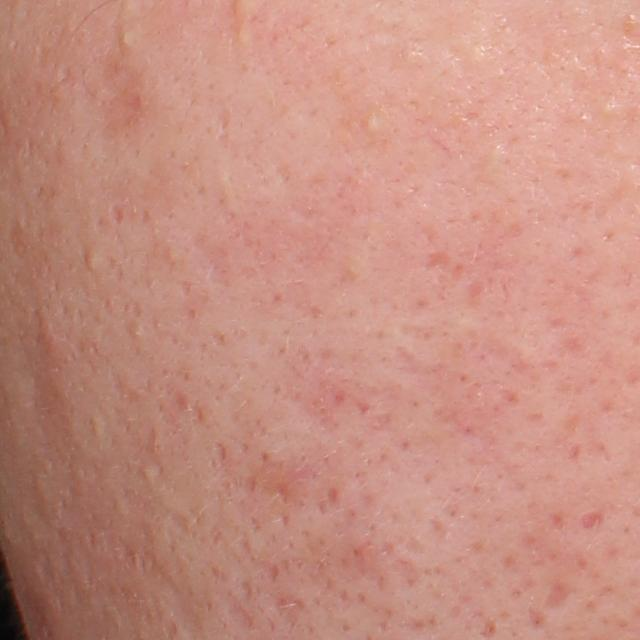atrophic_scar: (538, 573, 579, 611), (419, 248, 453, 277), (577, 510, 605, 529), (111, 201, 127, 224)
comedo: (81, 246, 104, 273)
